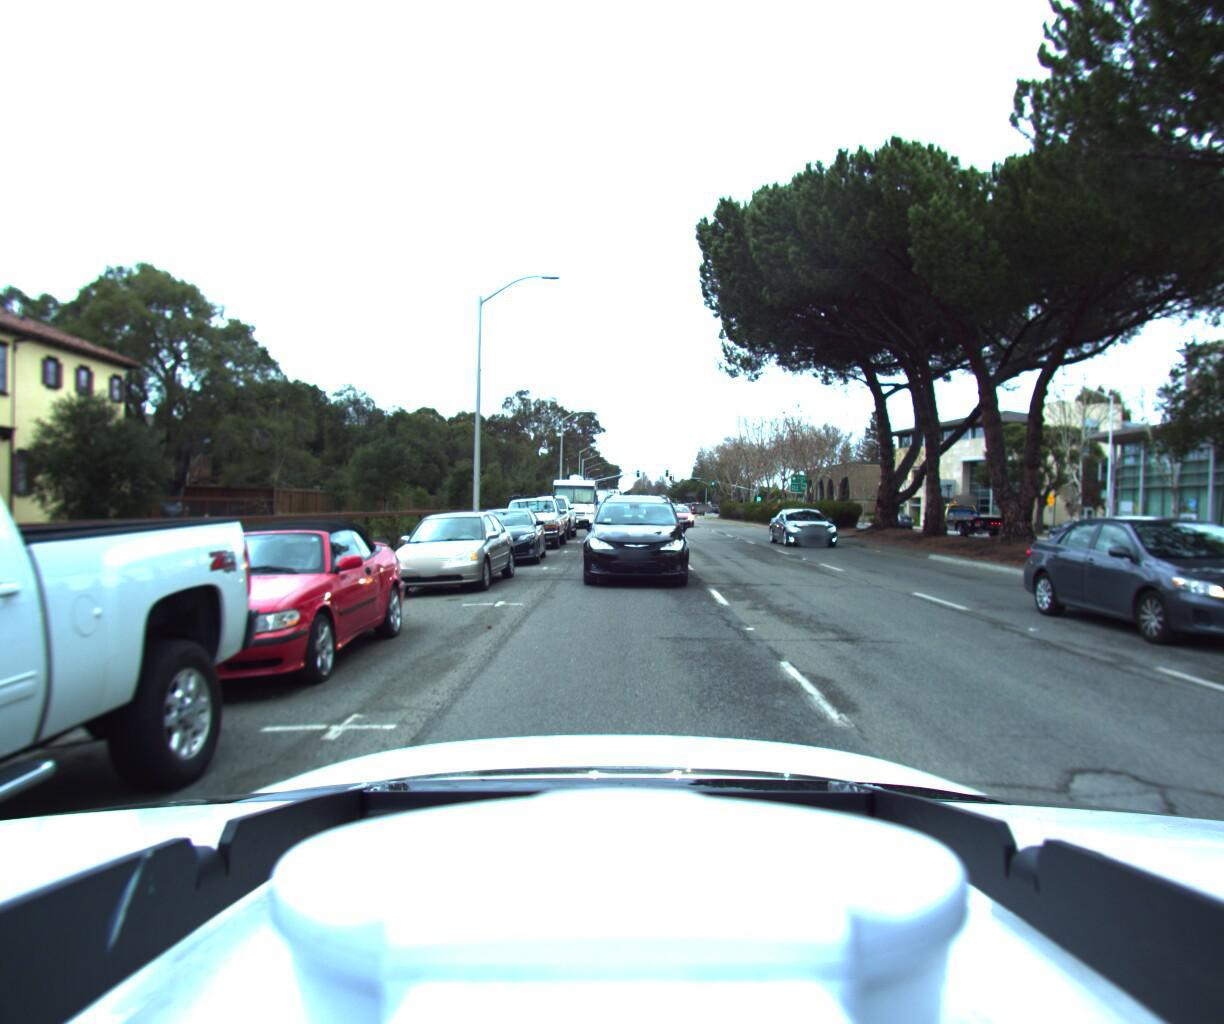car: (0, 0, 277, 1024), (72, 511, 425, 701), (1060, 506, 1224, 677), (582, 486, 700, 592), (381, 508, 519, 593), (462, 503, 552, 569), (499, 490, 569, 552), (774, 504, 853, 547), (523, 493, 577, 542), (1043, 516, 1120, 545), (667, 503, 699, 527), (881, 510, 915, 529)
other_vehicle: (545, 475, 597, 527)
truck: (914, 498, 1011, 537)
